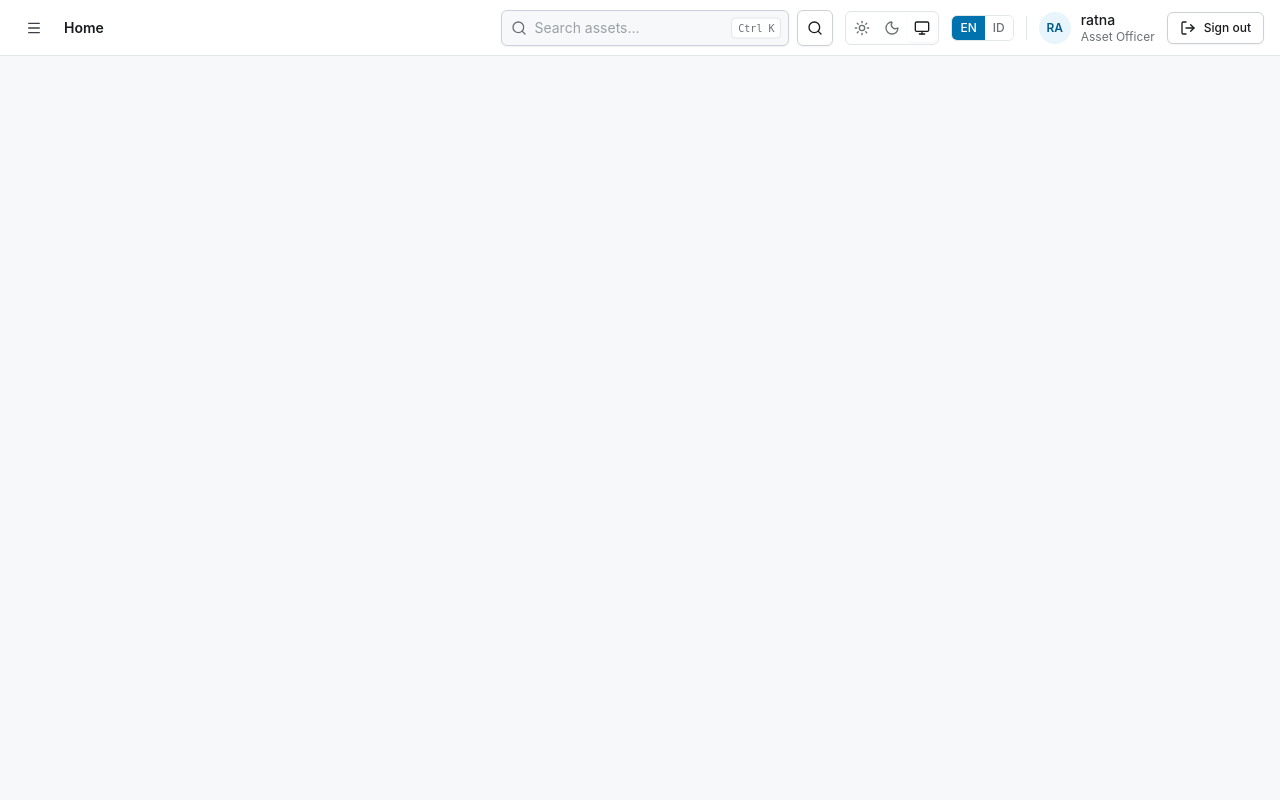
Test: TopBar › confirms before signing out (§4.4)
Step 1. Click the button "Sign out" → (1215, 28), box [1167,12,1264,44]
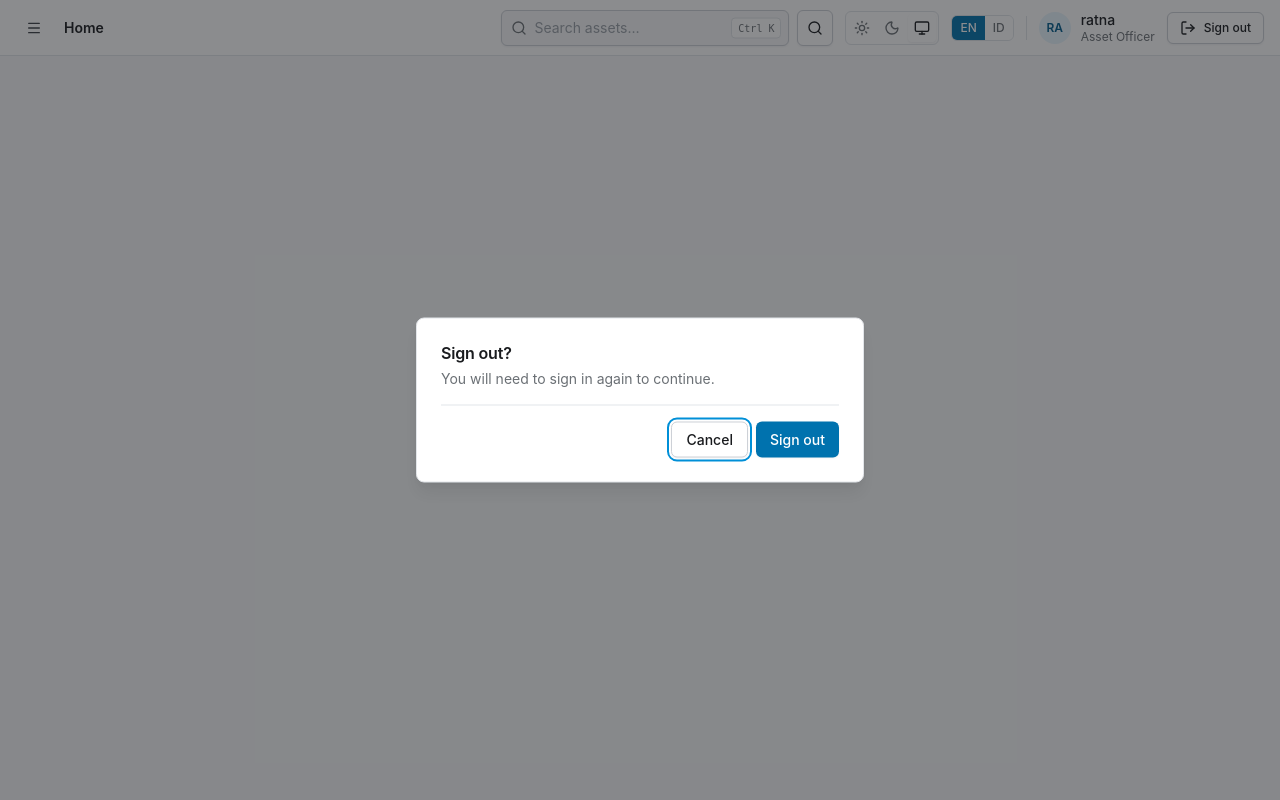
Now the dialog shows "Sign out?", box [441,342,512,362]
